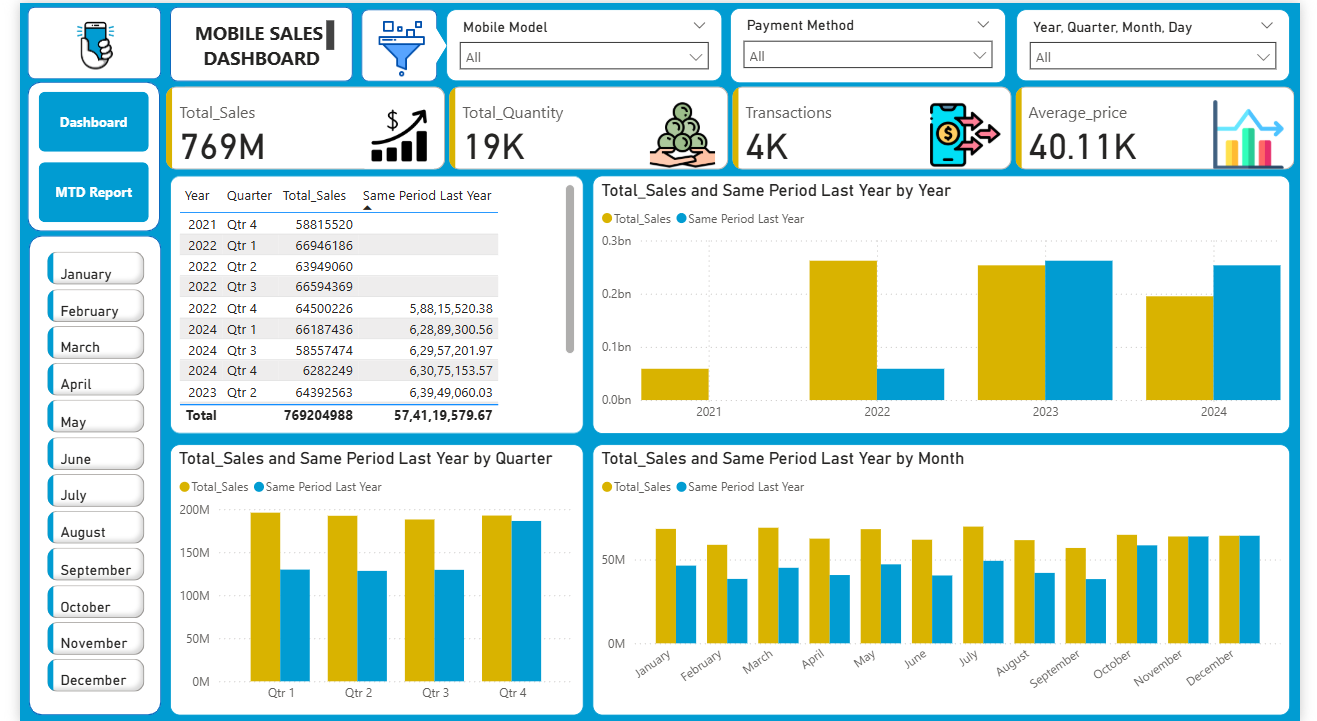

The page's visual inventory and layout, read from the dashboard file:
{"tool":"powerbi","page":{"name":"Same Period Last Year","canvas":[1280,720],"ordinal":2},"visuals":[{"type":"shape","box":[7.4,3.7,133.7,72.4],"z":0},{"type":"image","box":[18.4,6.1,114.1,72.4],"z":1000},{"type":"shape","box":[7.4,78.5,132.5,149.7],"z":2000},{"type":"shape","box":[8.6,231.9,132.5,479.8],"z":3000},{"type":"advancedSlicerVisual","fields":{"Values":["Custom_Calendar.Date.Variation.Date Hierarchy.Month"]},"box":[22.1,244.2,108,456.4],"z":4000},{"type":"cardVisual","fields":{"Data":["Sales_Data.Total_Sales","Sales_Data.Quantity","Sales_Data.Transactions","Sales_Data.Avg_price"]},"box":[141.1,78.5,1138.7,93.3],"z":5000},{"type":"slicer","fields":{"Values":["Sales_Data.Mobile Model"]},"box":[425.8,6.1,276.1,72.4],"z":6000},{"type":"slicer","fields":{"Values":["Sales_Data.Payment Method"]},"box":[710.4,4.9,276.1,74.8],"z":7000},{"type":"slicer","fields":{"Values":["Custom_Calendar.Date.Variation.Date Hierarchy.Year","Custom_Calendar.Date.Variation.Date Hierarchy.Quarter","Custom_Calendar.Date.Variation.Date Hierarchy.Month","Custom_Calendar.Date.Variation.Date Hierarchy.Day"]},"box":[996.3,6.1,273.6,72.4],"z":8000},{"type":"shape","box":[341.1,6.1,76.1,72.4],"z":9000},{"type":"shape","box":[396.3,17.2,30.7,50.3],"z":10000},{"type":"image","box":[341.1,12.3,81,66.3],"z":11000},{"type":"shape","box":[149.7,3.7,182.8,74.8],"z":12000},{"type":"textbox","box":[165.6,12.3,153.4,60.1],"z":13000},{"type":"tableEx","fields":{"Values":["Custom_Calendar.Date.Variation.Date Hierarchy.Year","Custom_Calendar.Date.Variation.Date Hierarchy.Quarter","Sales_Data.Total_Sales","Sales_Data.Same Period Last Year"]},"box":[150,172.5,413.8,258.8],"z":14000},{"type":"clusteredColumnChart","fields":{"Category":["Custom_Calendar.Date.Variation.Date Hierarchy.Year","Custom_Calendar.Date.Variation.Date Hierarchy.Quarter","Custom_Calendar.Date.Variation.Date Hierarchy.Month","Custom_Calendar.Date.Variation.Date Hierarchy.Day"],"Y":["Sales_Data.Total_Sales","Sales_Data.Same Period Last Year"]},"box":[572.5,172.5,697.5,258.8],"z":15000},{"type":"clusteredColumnChart","fields":{"Category":["Custom_Calendar.Date.Variation.Date Hierarchy.Year","Custom_Calendar.Date.Variation.Date Hierarchy.Quarter","Custom_Calendar.Date.Variation.Date Hierarchy.Month","Custom_Calendar.Date.Variation.Date Hierarchy.Day"],"Y":["Sales_Data.Total_Sales","Sales_Data.Same Period Last Year"]},"box":[150,441.2,413.8,271.2],"z":16000},{"type":"clusteredColumnChart","fields":{"Category":["Custom_Calendar.Date.Variation.Date Hierarchy.Month"],"Y":["Sales_Data.Total_Sales","Sales_Data.Same Period Last Year"]},"box":[572.5,441.2,697.5,271.2],"z":17000},{"type":"pageNavigator","box":[18.8,88.8,110,130],"z":17001}]}

Visuals, with their boxes in screenshot pixels (x1, y1, x2, y2), scaled from the page's 1280x720 canvas onto the 1317x721 screenshot:
shape: detection(8, 4, 145, 76)
image: detection(19, 6, 136, 79)
shape: detection(8, 79, 144, 229)
shape: detection(9, 232, 145, 713)
advancedSlicerVisual - Custom_Calendar.Date.Variation.Date Hierarchy.Month: detection(23, 245, 134, 702)
cardVisual - Sales_Data.Total_Sales x Sales_Data.Quantity: detection(145, 79, 1316, 172)
slicer - Sales_Data.Mobile Model: detection(438, 6, 722, 79)
slicer - Sales_Data.Payment Method: detection(731, 5, 1015, 80)
slicer - Custom_Calendar.Date.Variation.Date Hierarchy.Year x Custom_Calendar.Date.Variation.Date Hierarchy.Quarter: detection(1025, 6, 1307, 79)
shape: detection(351, 6, 429, 79)
shape: detection(408, 17, 439, 68)
image: detection(351, 12, 434, 79)
shape: detection(154, 4, 342, 79)
textbox: detection(170, 12, 328, 73)
tableEx - Custom_Calendar.Date.Variation.Date Hierarchy.Year x Custom_Calendar.Date.Variation.Date Hierarchy.Quarter: detection(154, 173, 580, 432)
clusteredColumnChart - Custom_Calendar.Date.Variation.Date Hierarchy.Year x Custom_Calendar.Date.Variation.Date Hierarchy.Quarter: detection(589, 173, 1307, 432)
clusteredColumnChart - Custom_Calendar.Date.Variation.Date Hierarchy.Year x Custom_Calendar.Date.Variation.Date Hierarchy.Quarter: detection(154, 442, 580, 713)
clusteredColumnChart - Custom_Calendar.Date.Variation.Date Hierarchy.Month x Sales_Data.Total_Sales: detection(589, 442, 1307, 713)
pageNavigator: detection(19, 89, 133, 219)
